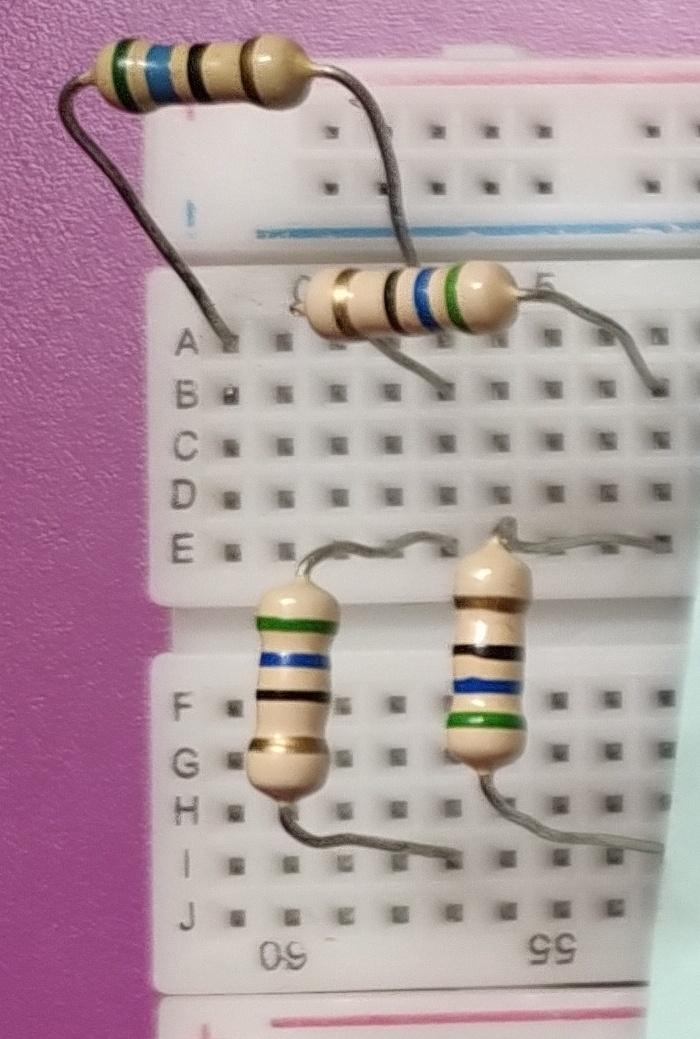resistor: (237, 557, 339, 831), (431, 517, 530, 792), (75, 19, 339, 122), (281, 247, 534, 341)
